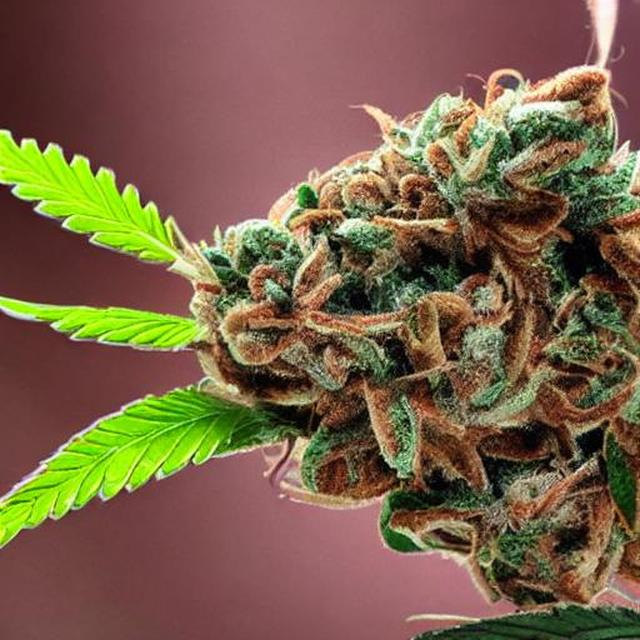Marijuana Joint: (37, 22, 640, 640)
